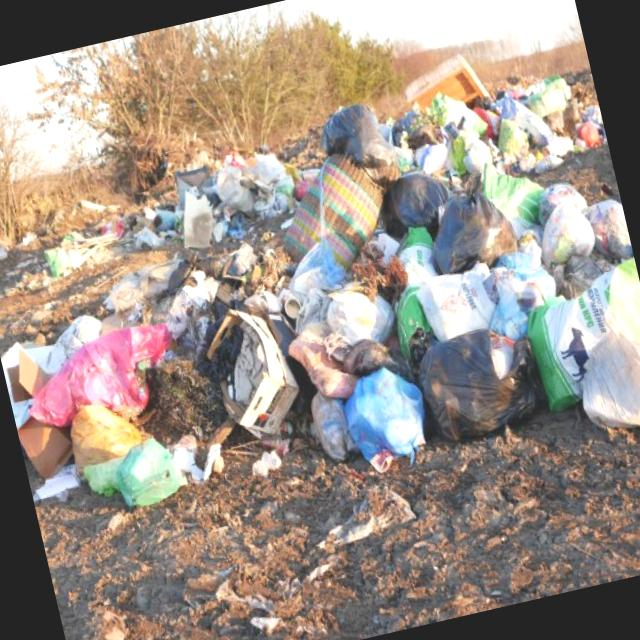garbage: (0, 38, 640, 553)
